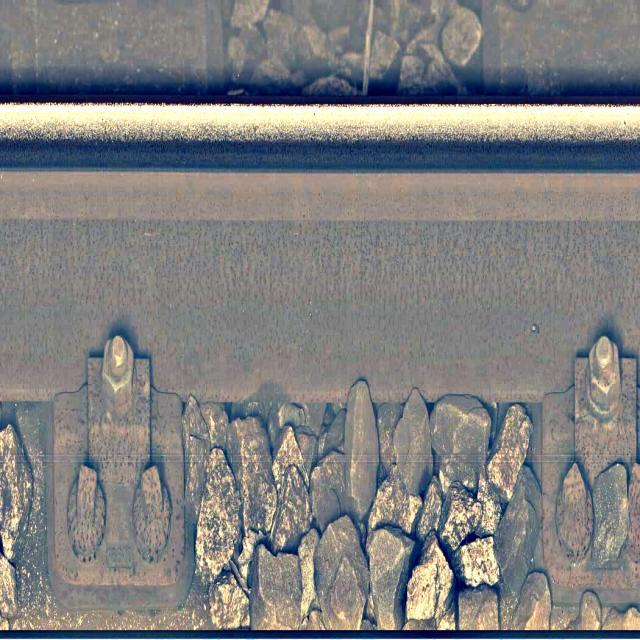Good Fasteners: (48, 335, 189, 599), (541, 337, 639, 604)
